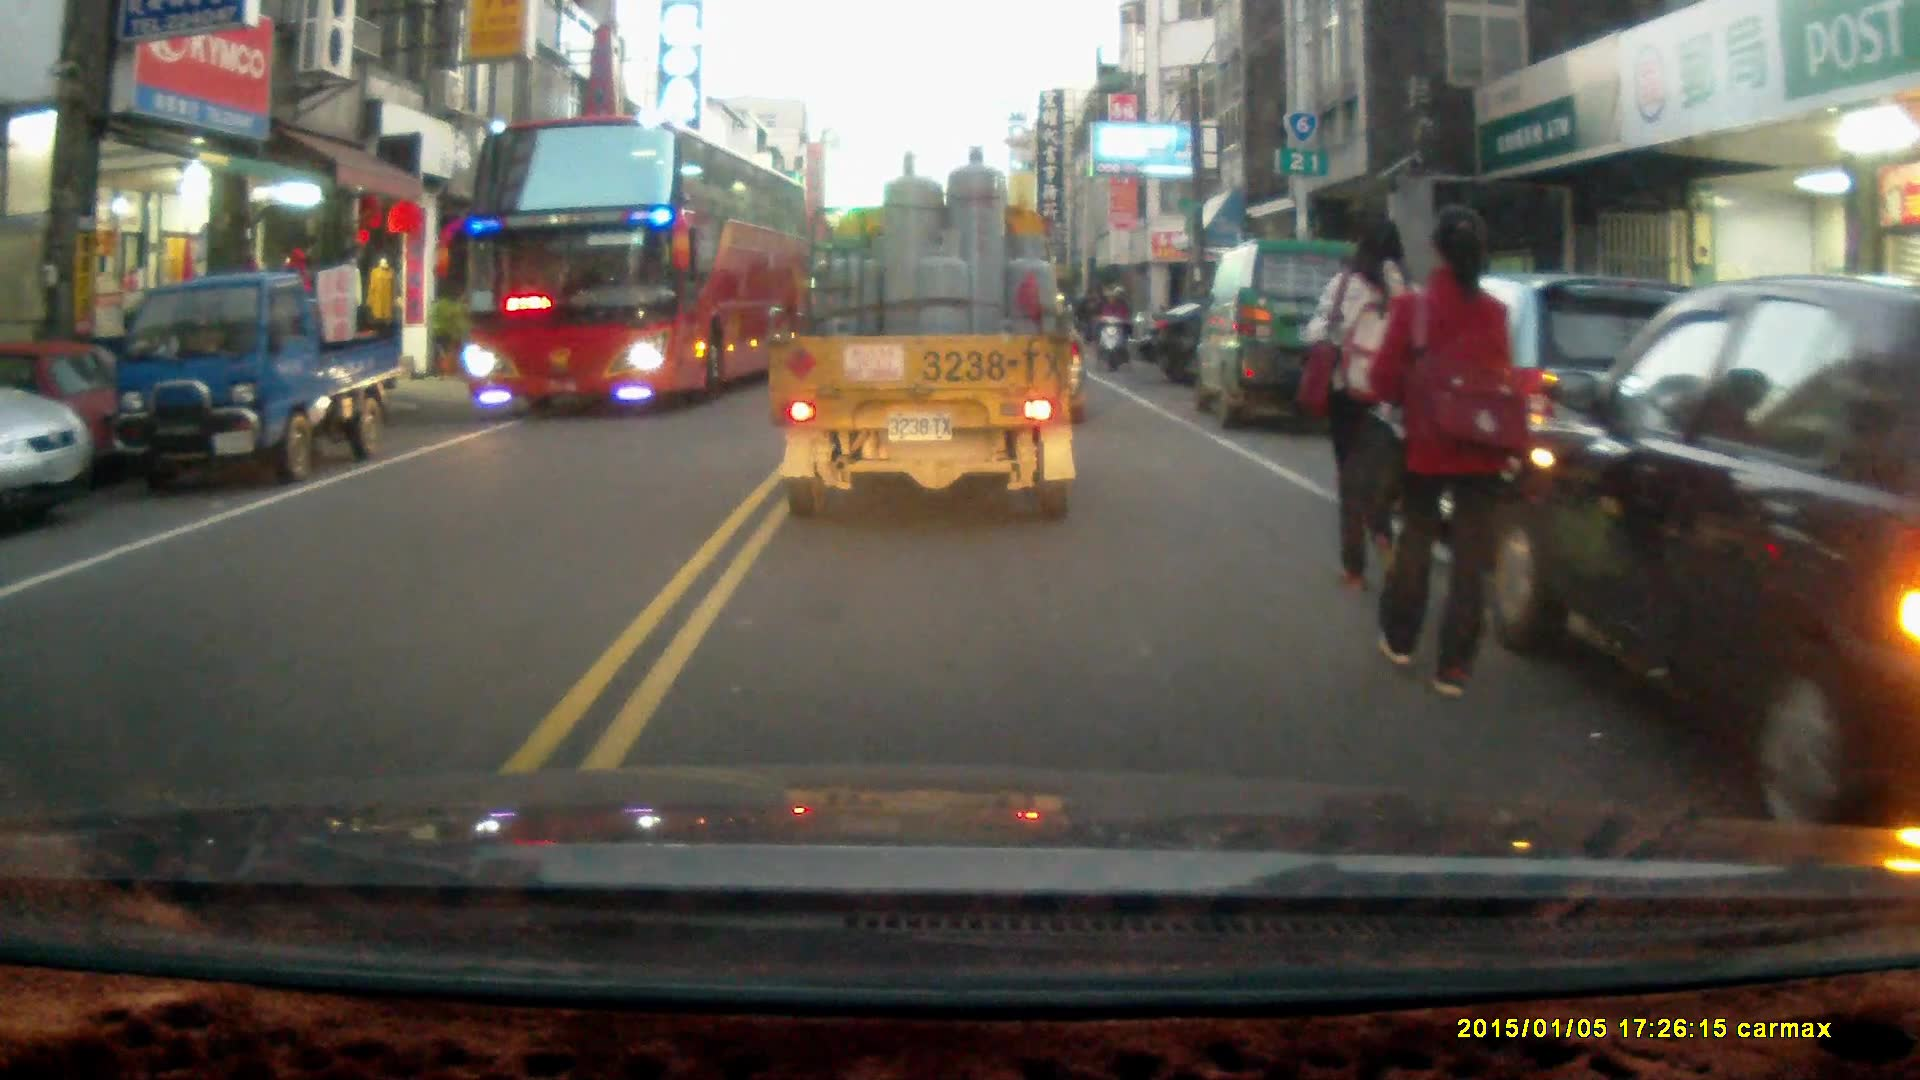pedestrian: (1364, 206, 1523, 703), (1312, 209, 1435, 601)
rider: (1093, 283, 1134, 371)
vehicle: (1479, 274, 1920, 821), (764, 143, 1085, 521), (456, 114, 809, 418), (110, 272, 399, 484), (1199, 235, 1388, 426), (1, 375, 94, 521)
